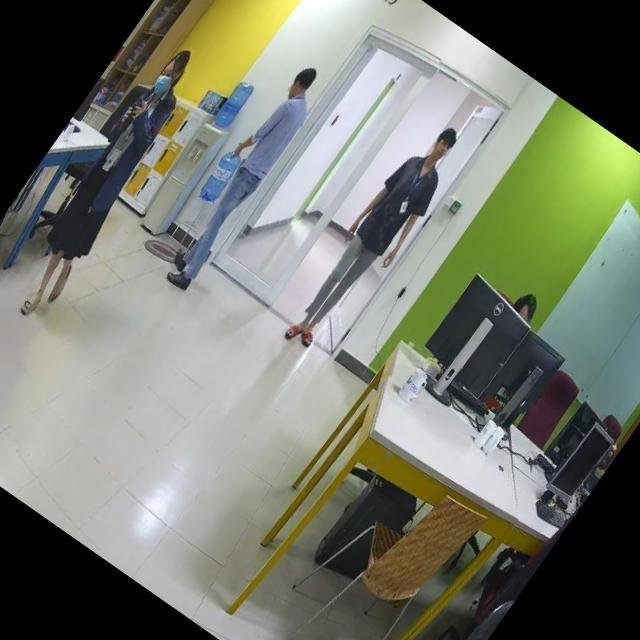person: (0, 43, 215, 326), (278, 109, 474, 362), (153, 60, 334, 297)
